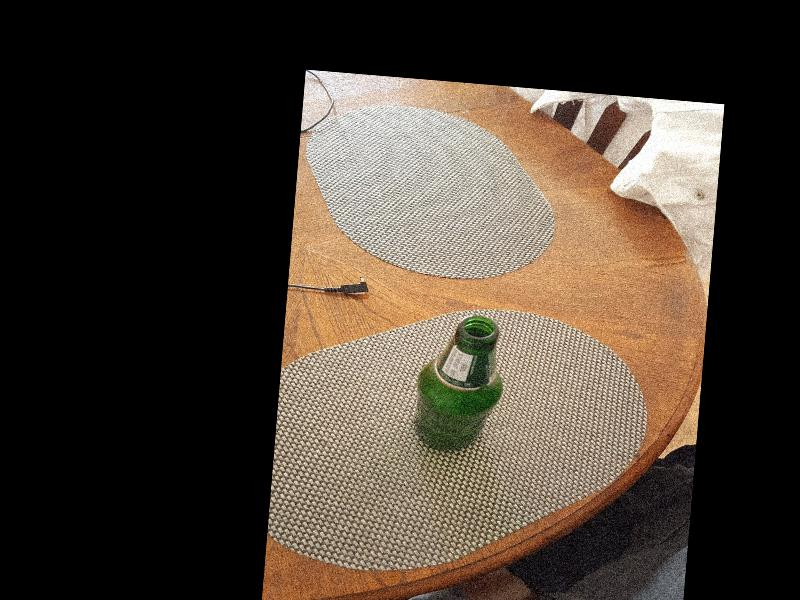Beer: (413, 312, 509, 455)
